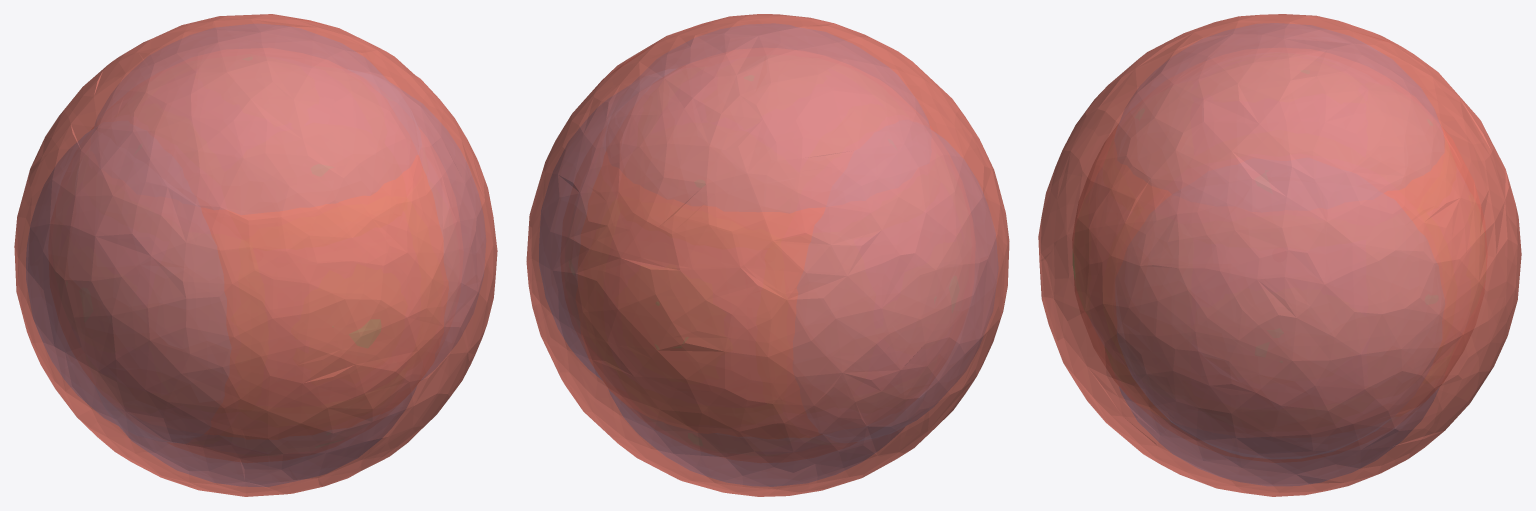
3 renders of one model, left to right at view 1: azimuth 30°, elevation 25°; view 2: azimuth 150°, elevation 25°; view 3: azimuth 270°, elevation 25°, orthographic.
Visible parts, largest first — view 1: Fl_n7_s_ml0_node, Fl_n6_s_ml0_node, Fl_n7_p_ml-1_node, Fl_n7_p_ml1_node, Fl_n6_d_ml0_node; view 2: Fl_n7_s_ml0_node, Fl_n6_s_ml0_node, Fl_n7_p_ml-1_node, Fl_n7_p_ml1_node; view 3: Fl_n7_s_ml0_node, Fl_n6_s_ml0_node, Fl_n7_p_ml-1_node, Fl_n7_p_ml1_node.
Part boxes in pixels (box(x1,y1,x2,y2)): Fl_n7_s_ml0_node: box(14, 14, 497, 496); Fl_n6_s_ml0_node: box(91, 127, 448, 439); Fl_n7_p_ml-1_node: box(94, 24, 416, 486); Fl_n7_p_ml1_node: box(26, 84, 485, 440); Fl_n6_d_ml0_node: box(333, 319, 381, 347); Fl_n7_s_ml0_node: box(526, 14, 1009, 496); Fl_n6_s_ml0_node: box(575, 126, 933, 438); Fl_n7_p_ml-1_node: box(609, 24, 929, 486); Fl_n7_p_ml1_node: box(539, 86, 997, 439); Fl_n7_s_ml0_node: box(1038, 14, 1521, 496); Fl_n6_s_ml0_node: box(1072, 124, 1487, 419); Fl_n7_p_ml-1_node: box(1115, 23, 1444, 485); Fl_n7_p_ml1_node: box(1120, 340, 1441, 458).
Size of the model in its own units: 3.55 by 3.56 by 3.55.
